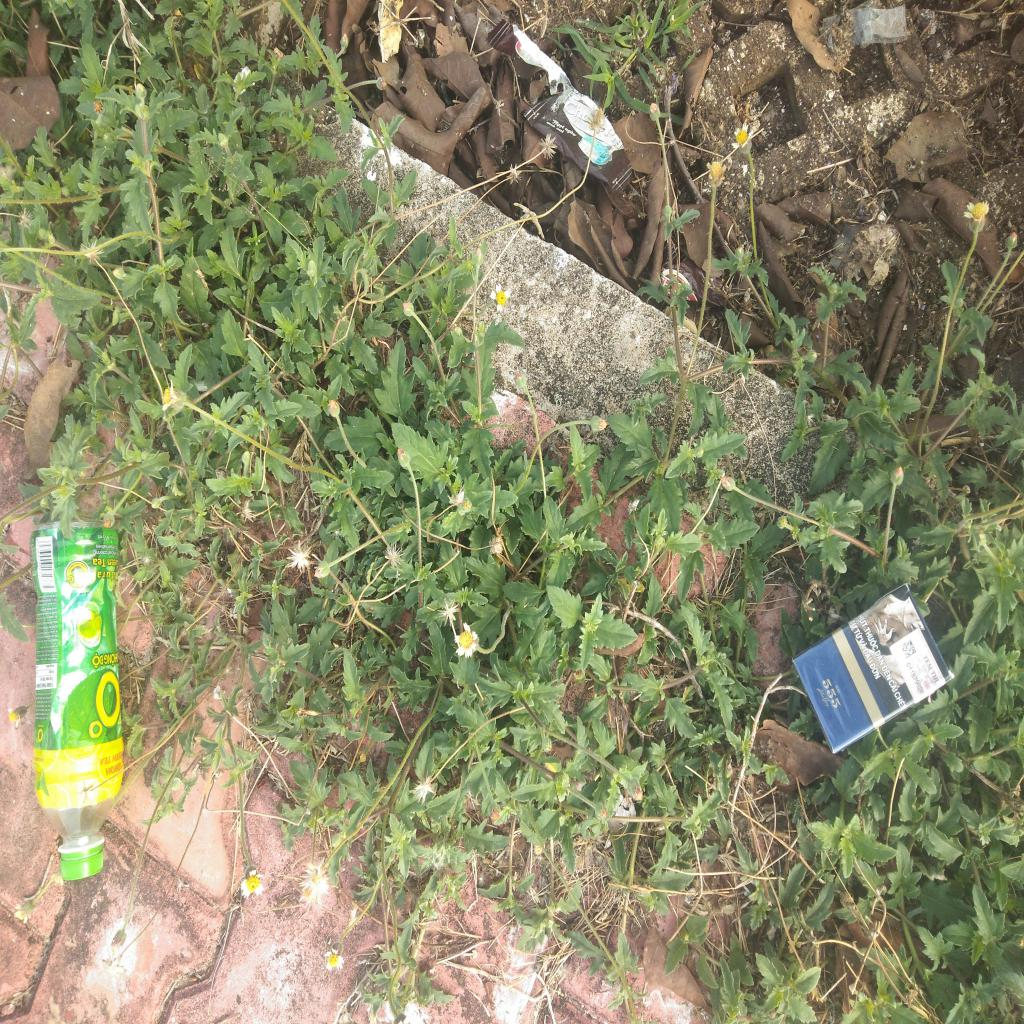Clear plastic bottle: (29, 518, 124, 880)
Other carton: (792, 583, 955, 754)
Other plastic: (485, 19, 631, 194), (660, 259, 726, 310)
Plastic bottle cap: (60, 850, 103, 880)
Plastic film: (822, 0, 906, 50)
